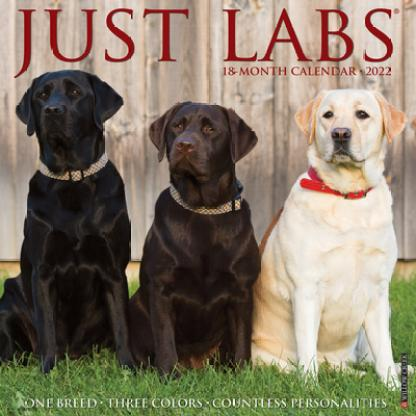Labarador Retriever: (247, 91, 410, 394), (119, 104, 262, 378), (0, 69, 123, 374)
